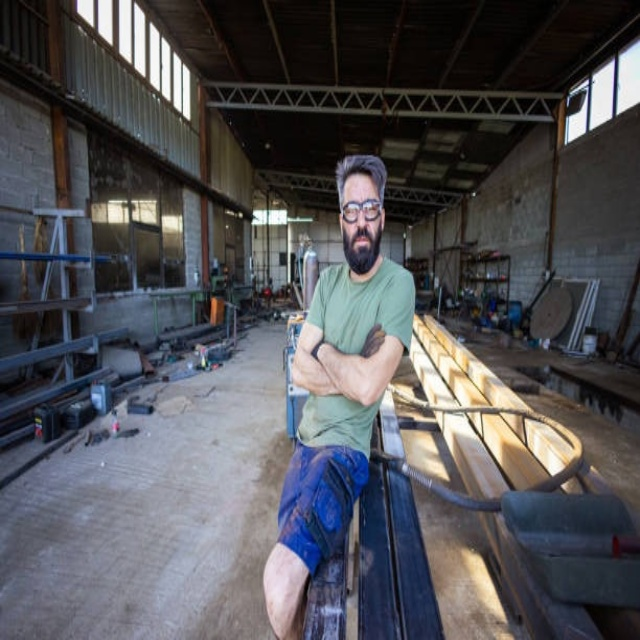Gafas: (341, 200, 384, 223)
Sin_mascara: (347, 232, 378, 262)
